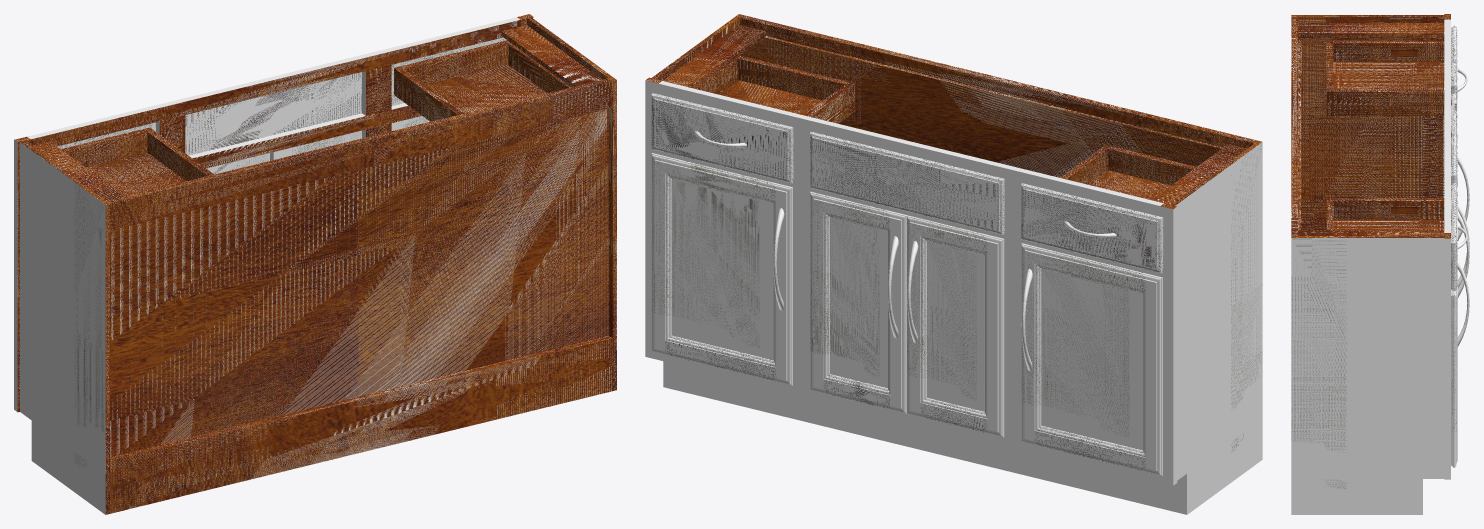
3 views of the same model, side by side, from view 1: azimuth 30°, elevation 25°; view 2: azimuth 150°, elevation 25°; view 3: azimuth 270°, elevation 25° (orthographic). The views are drawn at different scales.
Parts seen in each view (by area): view 1: mesh4_mesh4-geometry, mesh13_mesh13-geometry, mesh7_mesh7-geometry, mesh3_mesh3-geometry, mesh5_mesh5-geometry, mesh29_mesh29-geometry, mesh23_mesh23-geometry, mesh20_mesh20-geometry, mesh21_mesh21-geometry, mesh6_mesh6-geometry, mesh8_mesh8-geometry, mesh10_mesh10-geometry (+6 smaller); view 2: mesh53_mesh53-geometry, mesh43_mesh43-geometry, mesh4_mesh4-geometry, mesh7_mesh7-geometry, mesh30_mesh30-geometry, mesh5_mesh5-geometry, mesh14_mesh14-geometry, mesh3_mesh3-geometry, mesh44_mesh44-geometry, mesh56_mesh56-geometry, mesh2_mesh2-geometry, mesh55_mesh55-geometry (+30 smaller); view 3: mesh10_mesh10-geometry, mesh7_mesh7-geometry, mesh20_mesh20-geometry, mesh9_mesh9-geometry, mesh11_mesh11-geometry, mesh23_mesh23-geometry, mesh16_mesh16-geometry, mesh6_mesh6-geometry, mesh2_mesh2-geometry, mesh3_mesh3-geometry, mesh5_mesh5-geometry, mesh31_mesh31-geometry (+8 smaller).
Part boxes in pixels (x1,y1,x2,y2): mesh4_mesh4-geometry: (110,109,608,457); mesh13_mesh13-geometry: (110,335,612,513); mesh7_mesh7-geometry: (31,149,109,474); mesh3_mesh3-geometry: (106,78,612,230); mesh5_mesh5-geometry: (27,17,520,168); mesh29_mesh29-geometry: (57,37,506,155); mesh23_mesh23-geometry: (86,64,546,196); mesh20_mesh20-geometry: (144,40,570,181); mesh21_mesh21-geometry: (61,41,508,167); mesh6_mesh6-geometry: (20,141,35,419); mesh8_mesh8-geometry: (31,421,109,514); mesh10_mesh10-geometry: (538,26,616,350); mesh53_mesh53-geometry: (928,242,1142,448); mesh43_mesh43-geometry: (673,180,887,385); mesh4_mesh4-geometry: (740,36,1222,177); mesh7_mesh7-geometry: (1183,141,1262,473); mesh30_mesh30-geometry: (655,100,1155,268); mesh5_mesh5-geometry: (658,81,1163,482); mesh14_mesh14-geometry: (667,362,1182,513); mesh3_mesh3-geometry: (739,15,1257,148); mesh44_mesh44-geometry: (651,176,831,372); mesh56_mesh56-geometry: (984,256,1162,453); mesh2_mesh2-geometry: (645,77,1177,485); mesh55_mesh55-geometry: (907,238,1042,424); mesh10_mesh10-geometry: (1291,236,1422,478); mesh7_mesh7-geometry: (1291,15,1422,230); mesh20_mesh20-geometry: (1326,40,1444,219); mesh9_mesh9-geometry: (1423,236,1444,478); mesh11_mesh11-geometry: (1291,479,1422,514); mesh23_mesh23-geometry: (1333,62,1444,230); mesh16_mesh16-geometry: (1298,23,1444,37); mesh6_mesh6-geometry: (1423,15,1444,197); mesh2_mesh2-geometry: (1444,14,1450,479); mesh3_mesh3-geometry: (1291,16,1297,235); mesh5_mesh5-geometry: (1444,19,1450,232); mesh31_mesh31-geometry: (1451,28,1457,243).
Size of the model in its own units: 0.8324 by 0.4786 by 0.2792.
